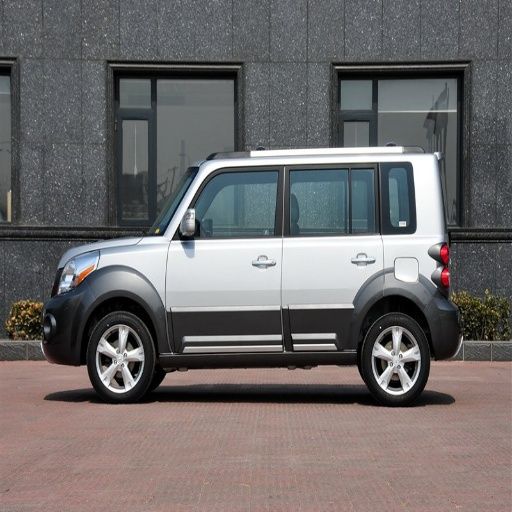back_left_door: (286, 162, 383, 347)
front_left_door: (166, 166, 286, 349)
